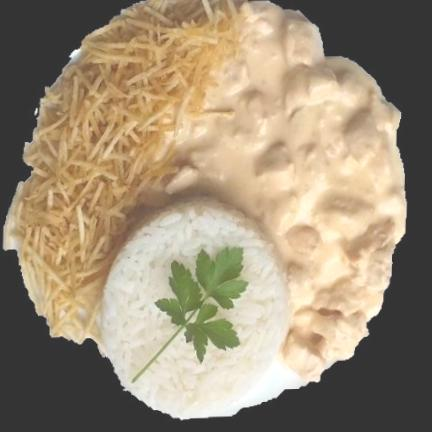chicken: (167, 0, 404, 320)
potato: (6, 0, 239, 343)
rice: (99, 199, 305, 419)
